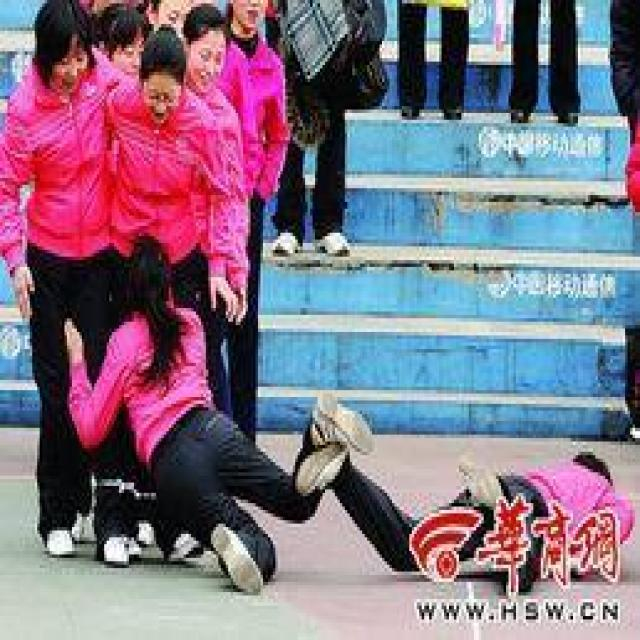fall: (53, 237, 360, 600), (310, 366, 635, 592)
nonfall: (0, 0, 121, 555), (184, 0, 299, 466), (119, 30, 224, 528)
